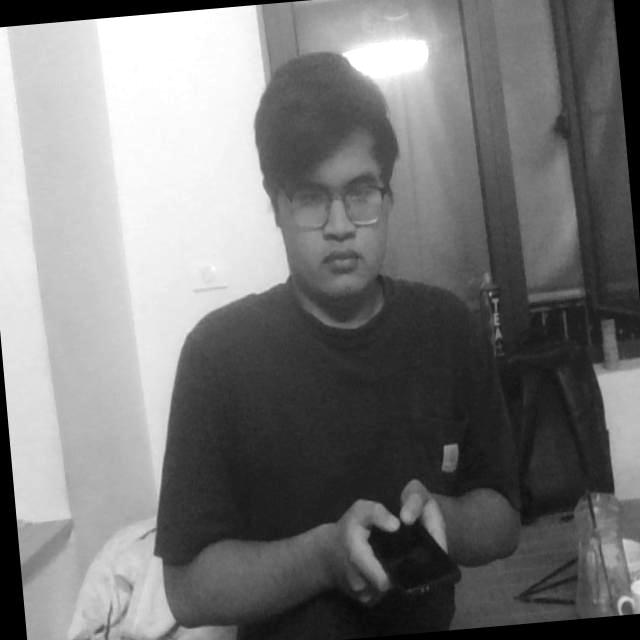phone: (351, 484, 476, 614)
